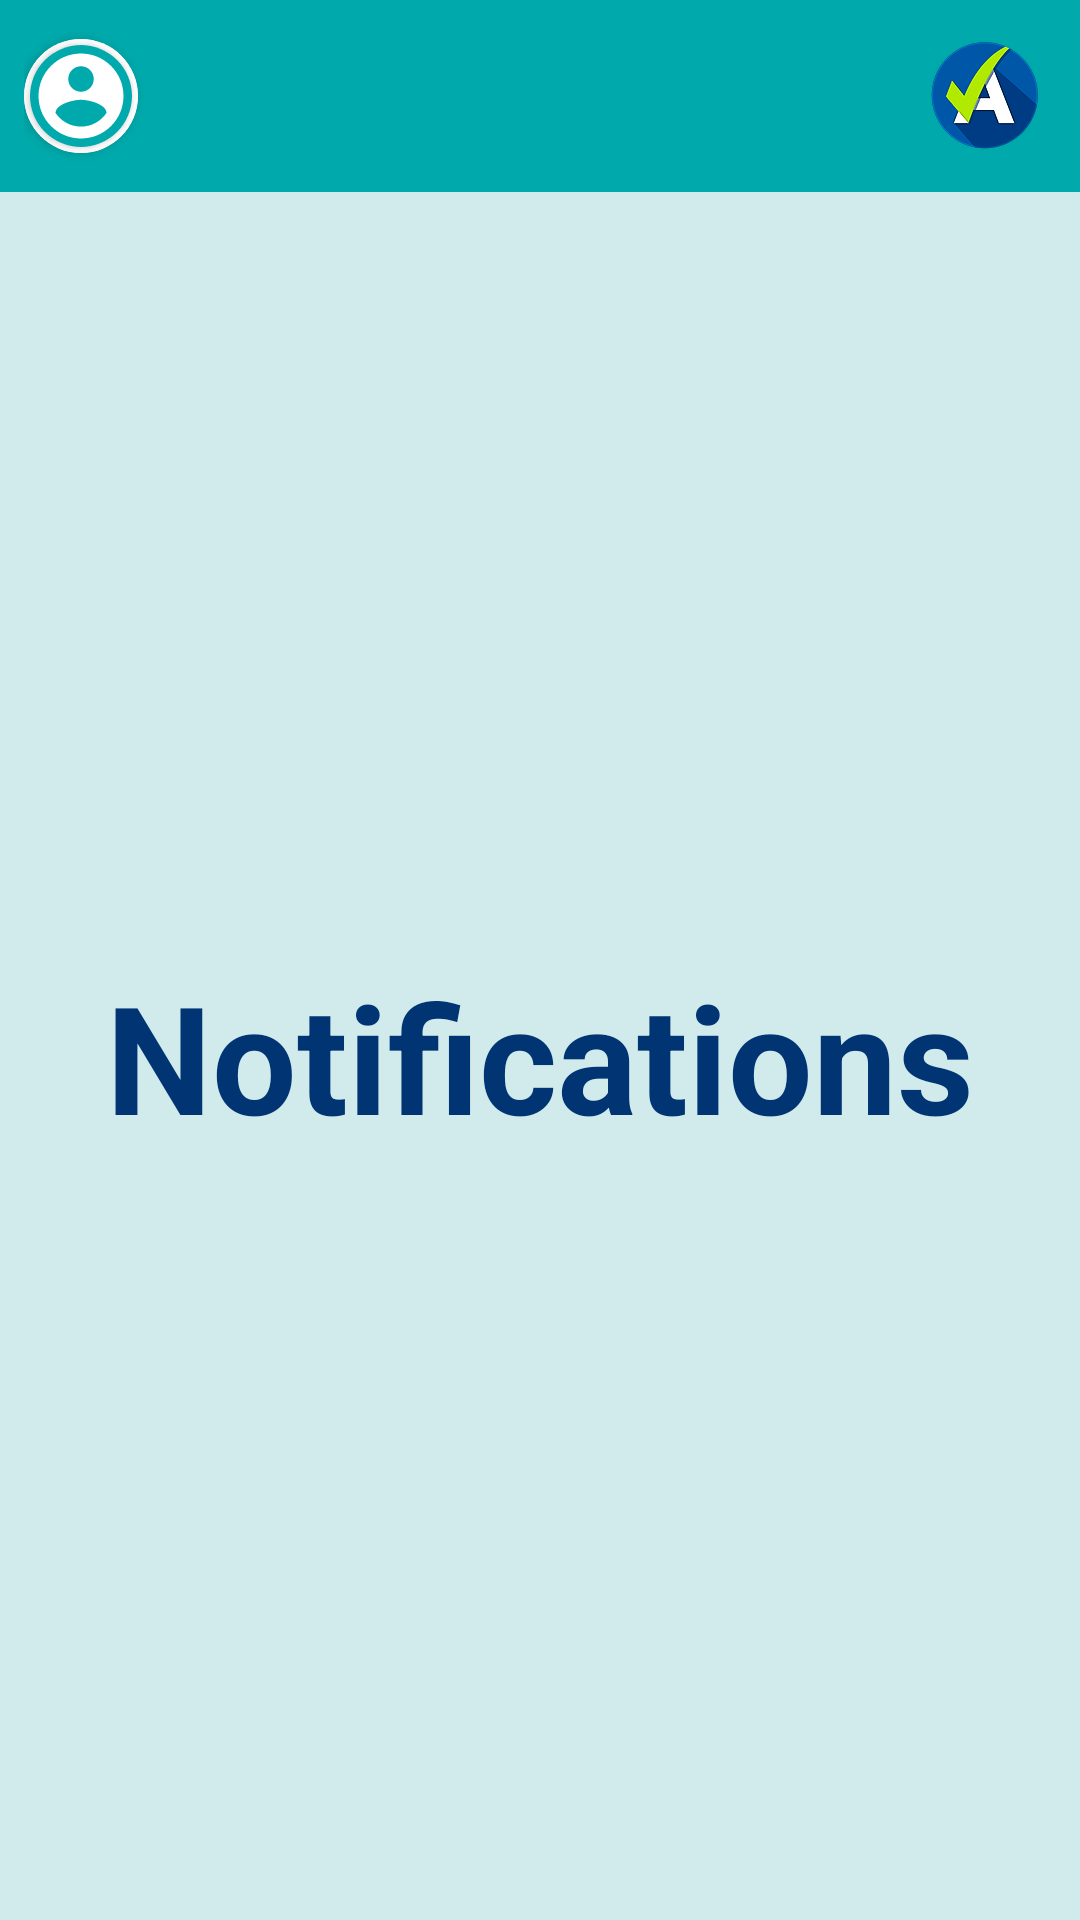

Where icons sit on this 1080x1920 app screen, as (x1=x1, y1=y1, x2=x2, y2=y2):
assured tick: (x1=931, y1=42, x2=1038, y2=149)
profile nav: (x1=38, y1=53, x2=124, y2=139)
